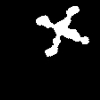single_crochet: (36, 6, 88, 55)
